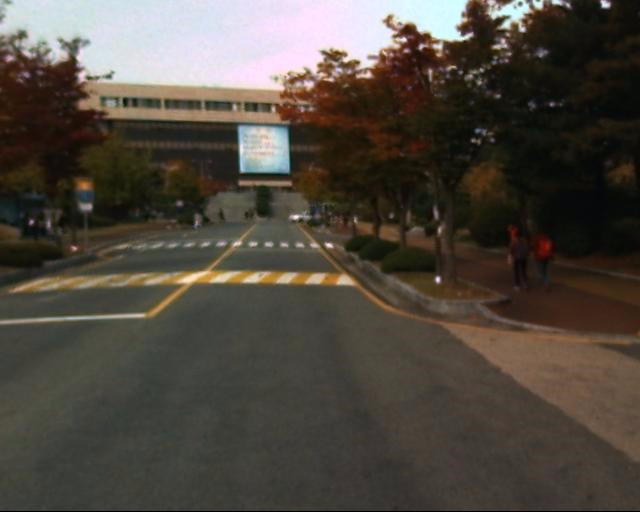person: (12, 206, 60, 256), (504, 222, 534, 299), (537, 223, 562, 293)
